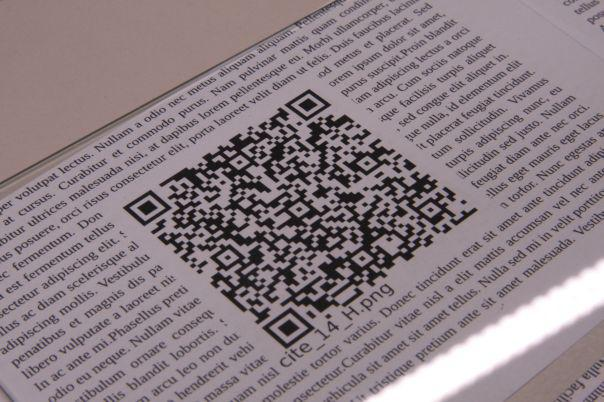Finder pattern: (260, 303, 316, 349), (123, 190, 171, 227), (281, 88, 332, 121)
